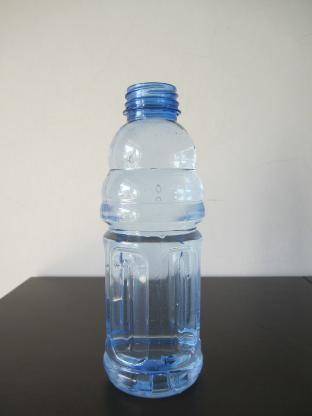Plastic Bottle: (100, 81, 204, 397)
